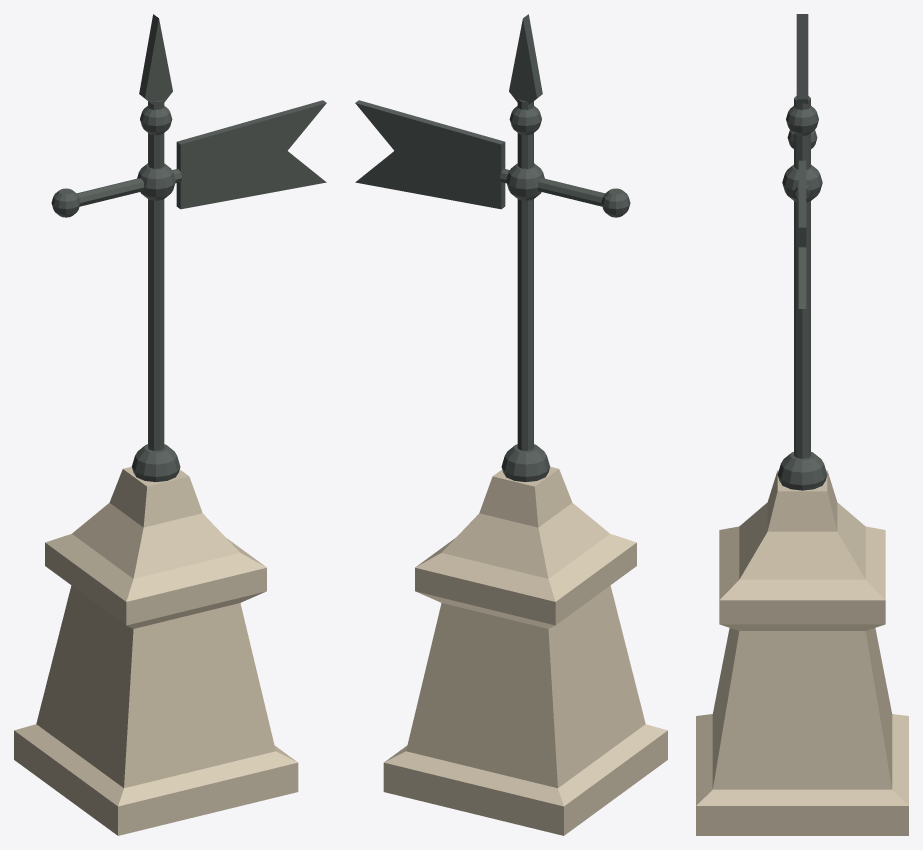
Rendered from T11_Summit_Weather_Vane.glb.
3 renders of one model, left to right at view 1: azimuth 30°, elevation 25°; view 2: azimuth 150°, elevation 25°; view 3: azimuth 270°, elevation 25°, orthographic. The views are drawn at different scales.
Visible parts, largest first — view 1: T11_Summit_Weather_Vane; view 2: T11_Summit_Weather_Vane; view 3: T11_Summit_Weather_Vane.
Part boxes in pixels (bbox=[...]): T11_Summit_Weather_Vane: bbox=[14, 14, 326, 835]; T11_Summit_Weather_Vane: bbox=[355, 14, 667, 835]; T11_Summit_Weather_Vane: bbox=[696, 14, 908, 835].
Bounding box in the file's own units: 0.965 × 2.58 × 0.64.
